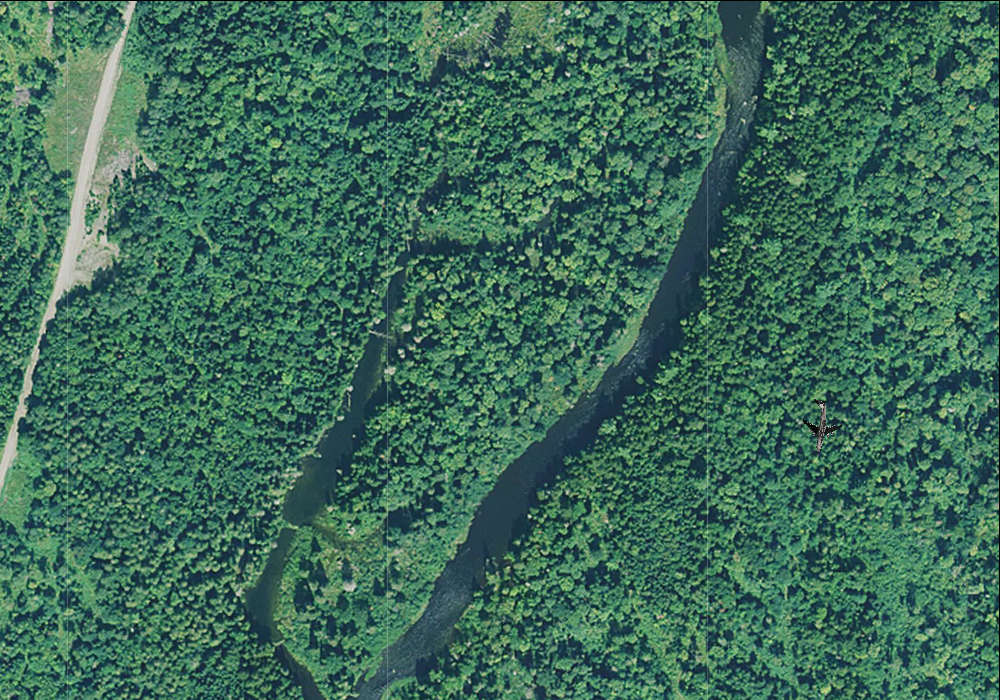plane: (792, 395, 847, 455)
